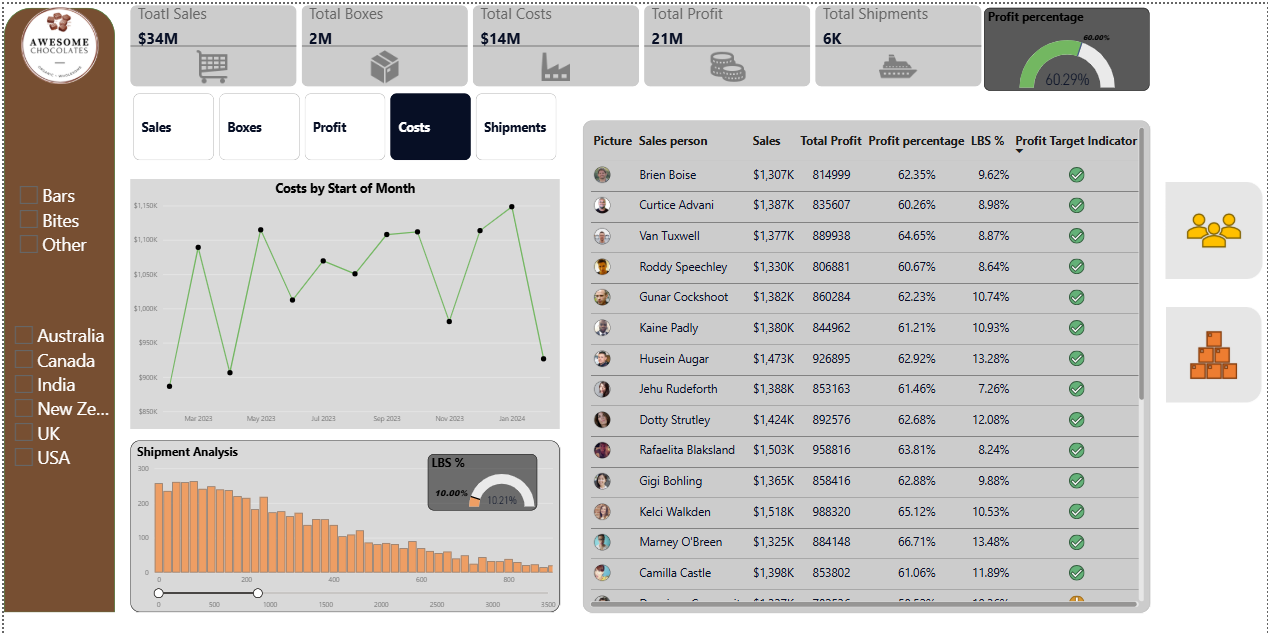

This screenshot's page, from the dashboard's own definition file:
{"tool":"powerbi","page":{"name":"Page 1","canvas":[2020,1030],"ordinal":0},"visuals":[{"type":"shape","box":[0,5,177.5,967.5],"z":0},{"type":"cardVisual","fields":{"Data":["Measures (2).Toatl Sales","Measures (2).Total Boxes","Measures (2).Total Costs","Measures (2).Total Profit","Measures (2).Total Shipments"]},"box":[202.5,2.5,1365,130],"z":1000},{"type":"gauge","fields":{"Y":["Measures (2).Profit percentage"]},"box":[1567.5,5,265,132.5],"z":2000},{"type":"image","box":[0,0,178.3,133.3],"z":3000},{"type":"lineChart","fields":{"Y":["Measures (2).Total Costs"],"Category":["calendar.Start of Month"]},"box":[202.5,280,687.5,400],"z":4000},{"type":"advancedSlicerVisual","fields":{"Values":["Measure Selector.Measure Selector"]},"box":[202.5,137.5,687.5,117.5],"z":5000},{"type":"clusteredColumnChart","title":"Shipment Analysis","fields":{"Category":["shipments.Boxes (bins)"],"Y":["Measures (2).Total Shipments"]},"box":[202.5,697.5,687.5,275],"z":6000},{"type":"gauge","fields":{"Y":["Measures (2).LBS %"]},"box":[677.5,720,175,90],"z":7000},{"type":"tableEx","title":"People Table","fields":{"Values":["people.Picture","people.Sales person","Measures (2).Toatl Sales","Measures (2).Total Profit","Measures (2).Profit percentage","Measures (2).LBS %","Measures (2).Profit Target Indicator"]},"box":[926,186,908,788],"z":8000},{"type":"image","title":"People icon","box":[1852.5,280,167.5,165],"z":10000},{"type":"image","title":"Product","box":[1852.5,480,167.5,162.5],"z":11000},{"type":"slicer","fields":{"Values":["locations.Geo"]},"box":[4,504,174,262],"z":11002},{"type":"slicer","fields":{"Values":["products.Category"]},"box":[12,280,166,128],"z":11003}]}

Visuals, with their boxes in screenshot pixels (x1, y1, x2, y2), scaled from the page's 2020x1030 canvas onto the 1268x635 screenshot:
shape: [0, 3, 111, 600]
cardVisual - Measures (2).Toatl Sales x Measures (2).Total Boxes: [127, 2, 984, 82]
gauge - Measures (2).Profit percentage: [984, 3, 1150, 85]
image: [0, 0, 112, 82]
lineChart - Measures (2).Total Costs x calendar.Start of Month: [127, 173, 559, 419]
advancedSlicerVisual - Measure Selector.Measure Selector: [127, 85, 559, 157]
"Shipment Analysis" clusteredColumnChart: [127, 430, 559, 600]
gauge - Measures (2).LBS %: [425, 444, 535, 499]
"People Table" tableEx: [581, 115, 1151, 600]
"People icon" image: [1163, 173, 1267, 274]
"Product" image: [1163, 296, 1267, 396]
slicer - locations.Geo: [3, 311, 112, 472]
slicer - products.Category: [8, 173, 112, 252]
